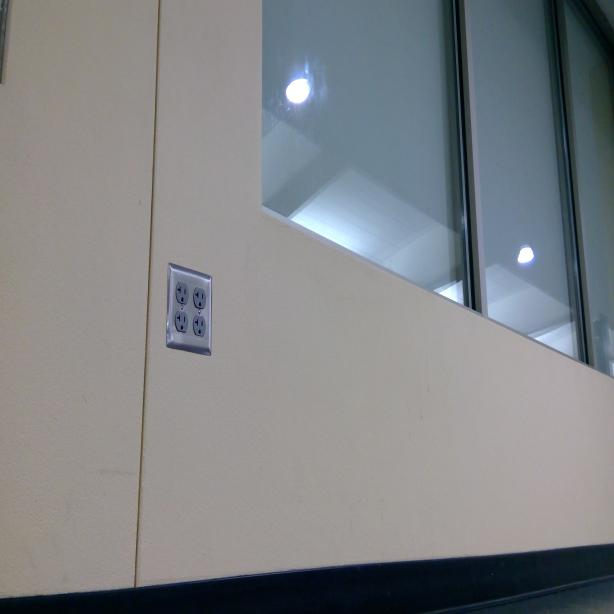typeb: (176, 311, 188, 332), (194, 315, 206, 336), (176, 283, 188, 303), (195, 288, 205, 308)
